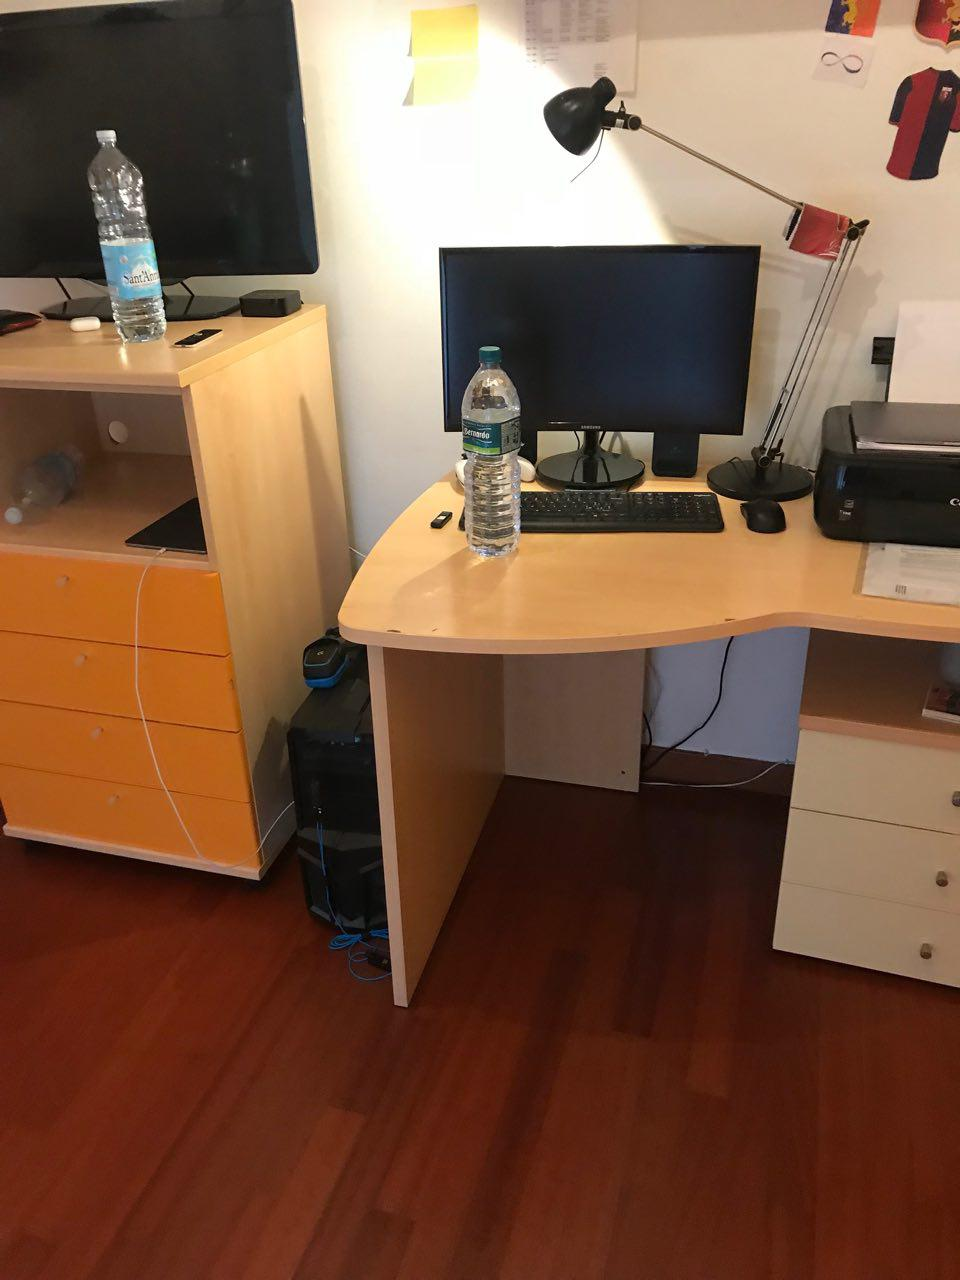san_bernardo: (460, 345, 521, 559)
